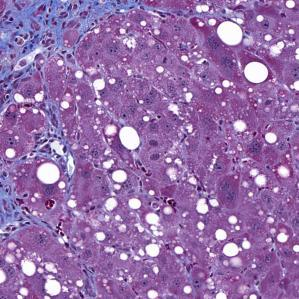fibrosis: (4, 5, 125, 62)
